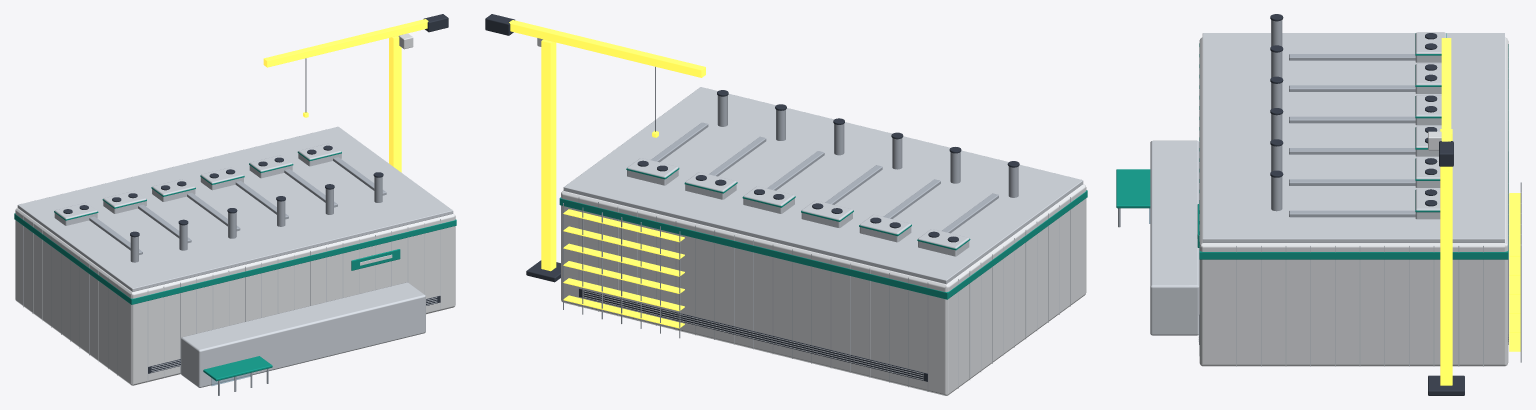
Rendered from campus.glb.
The picture shows the model from 3 angles, left to right: view 1: azimuth 30°, elevation 25°; view 2: azimuth 150°, elevation 25°; view 3: azimuth 270°, elevation 25°; orthographic projection. The views are drawn at different scales.
Parts seen in each view (by area): view 1: bldg_fab_main_mesh, bldg_fab_ramp_crane_jib, bldg_fab_ramp_mesh; view 2: bldg_fab_main_mesh, bldg_fab_ramp_mesh, bldg_fab_ramp_crane_jib; view 3: bldg_fab_main_mesh, bldg_fab_ramp_mesh, bldg_fab_ramp_crane_jib.
Boxes of the visible parts, x1,y1,x2,y2 form: bldg_fab_main_mesh: [14, 126, 456, 395]; bldg_fab_ramp_crane_jib: [263, 14, 448, 117]; bldg_fab_ramp_mesh: [211, 35, 401, 385]; bldg_fab_main_mesh: [559, 87, 1087, 395]; bldg_fab_ramp_mesh: [526, 39, 684, 338]; bldg_fab_ramp_crane_jib: [485, 14, 705, 137]; bldg_fab_main_mesh: [1116, 14, 1508, 366]; bldg_fab_ramp_mesh: [1149, 129, 1521, 395]; bldg_fab_ramp_crane_jib: [1428, 38, 1453, 166].
Size of the model in its own units: 101 by 47.8 by 65.7.
